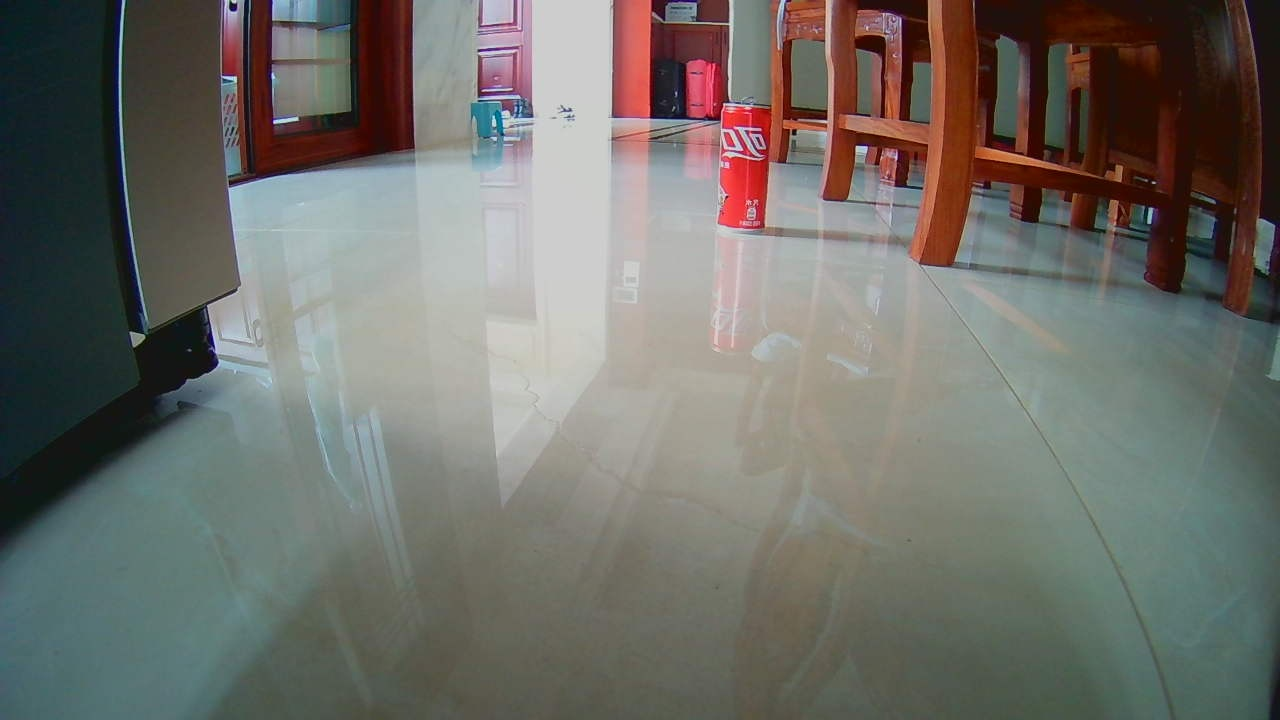cola: (718, 103, 771, 234)
